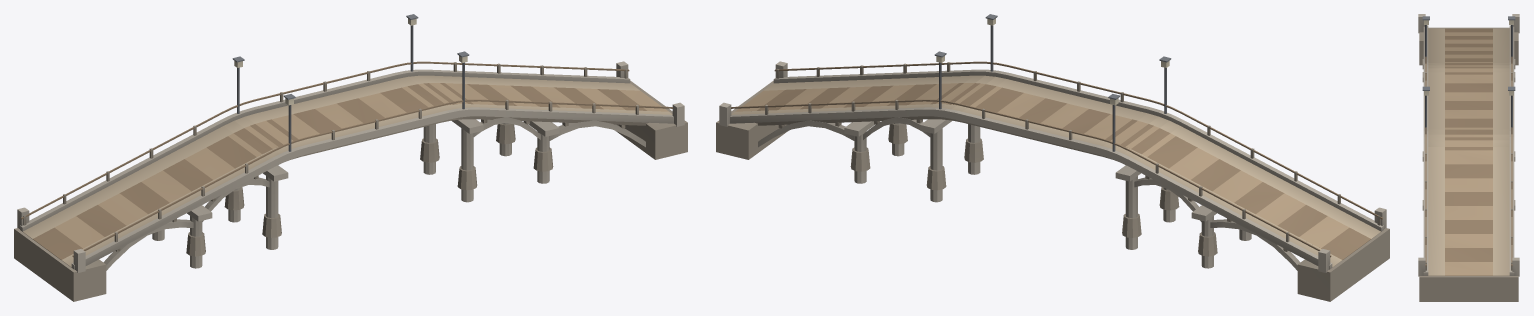
The model's file is bridge_yunseul_wide_low.glb.
The picture shows the model from 3 angles, left to right: view 1: azimuth 30°, elevation 25°; view 2: azimuth 150°, elevation 25°; view 3: azimuth 270°, elevation 25°; orthographic projection. The views are drawn at different scales.
Bounding box in the file's own units: 56.6 × 13.51 × 9.7.
